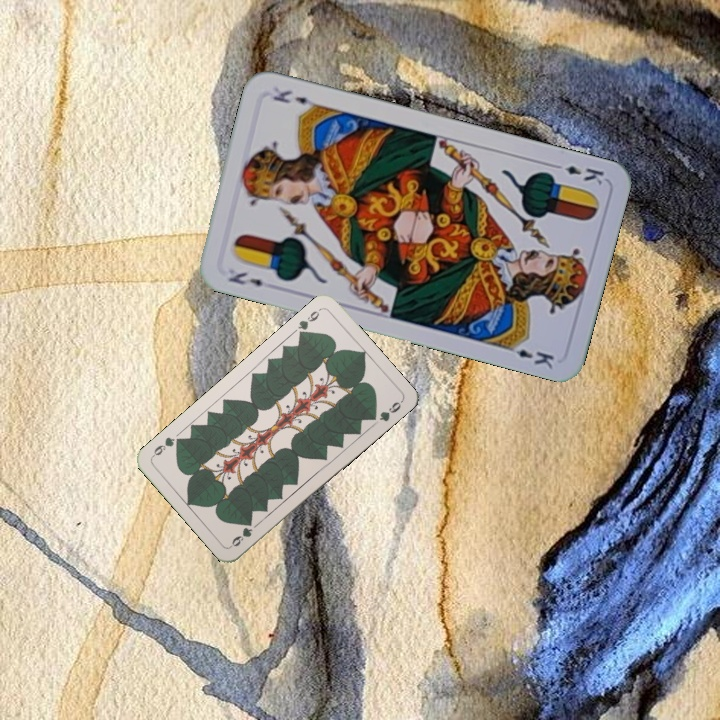EK: (548, 159, 607, 187), (224, 267, 265, 289)
G9: (293, 304, 324, 340), (227, 523, 255, 550)
